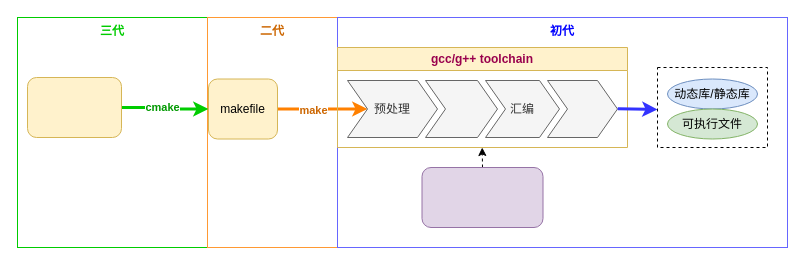
This 805x265 diagram has some shape labels left out. Each missing label, with the centre of its shape:
"c/c++ source files" goes at [482,197].
"CMakeLists.txt" goes at [74,107].
"编译" goes at [461,109].
"链接" goes at [582,109].
